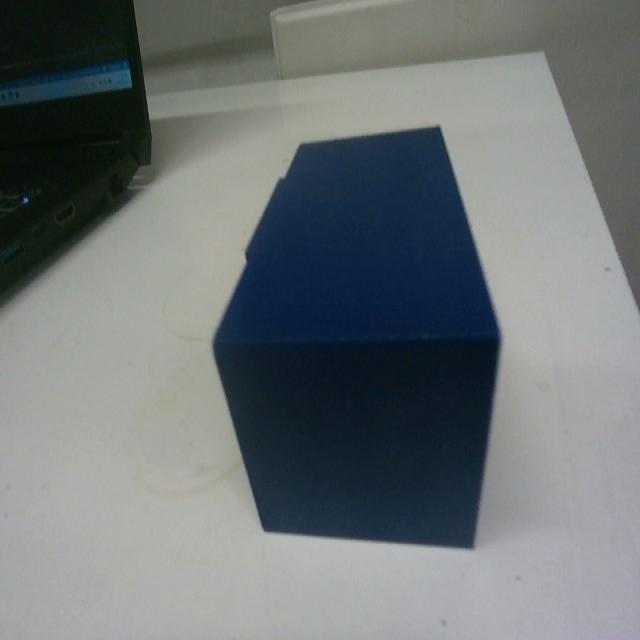Blue Cuboid: (210, 120, 504, 549)
